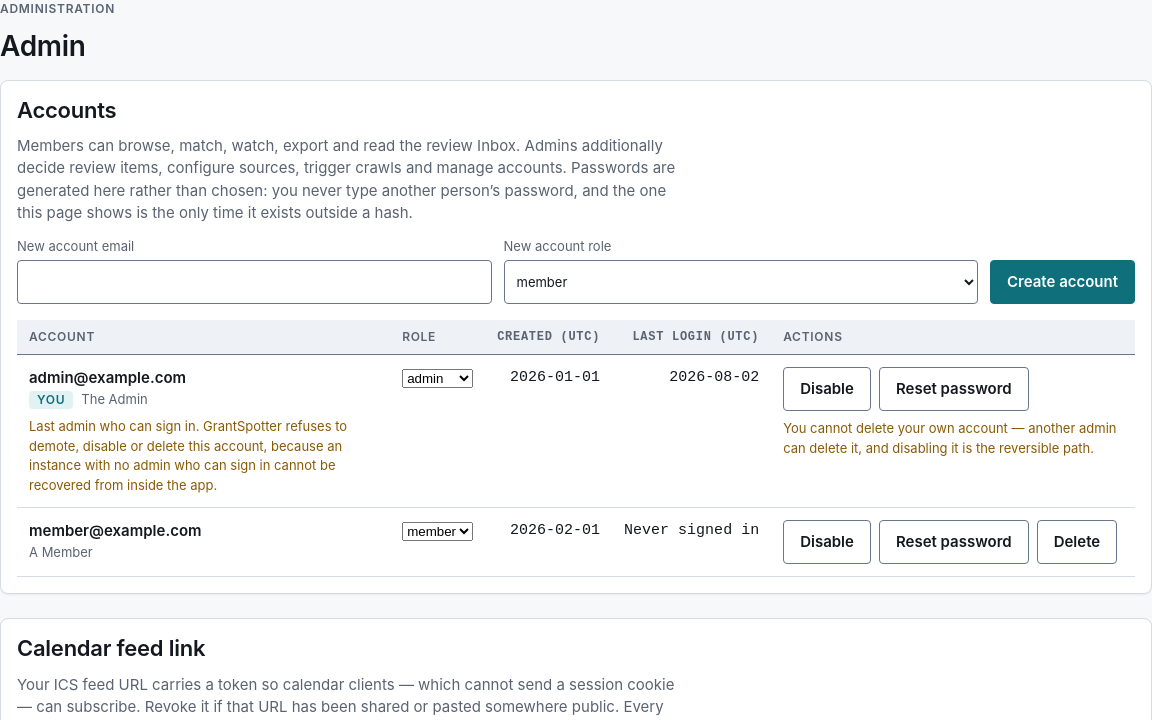
Test case: Admin console — users › confirms a delete before sending it, then names everything it destroyed
Click the button with aria-label "delete member@example.com" at (1077, 542), box left=1037, top=520, right=1117, bottom=564
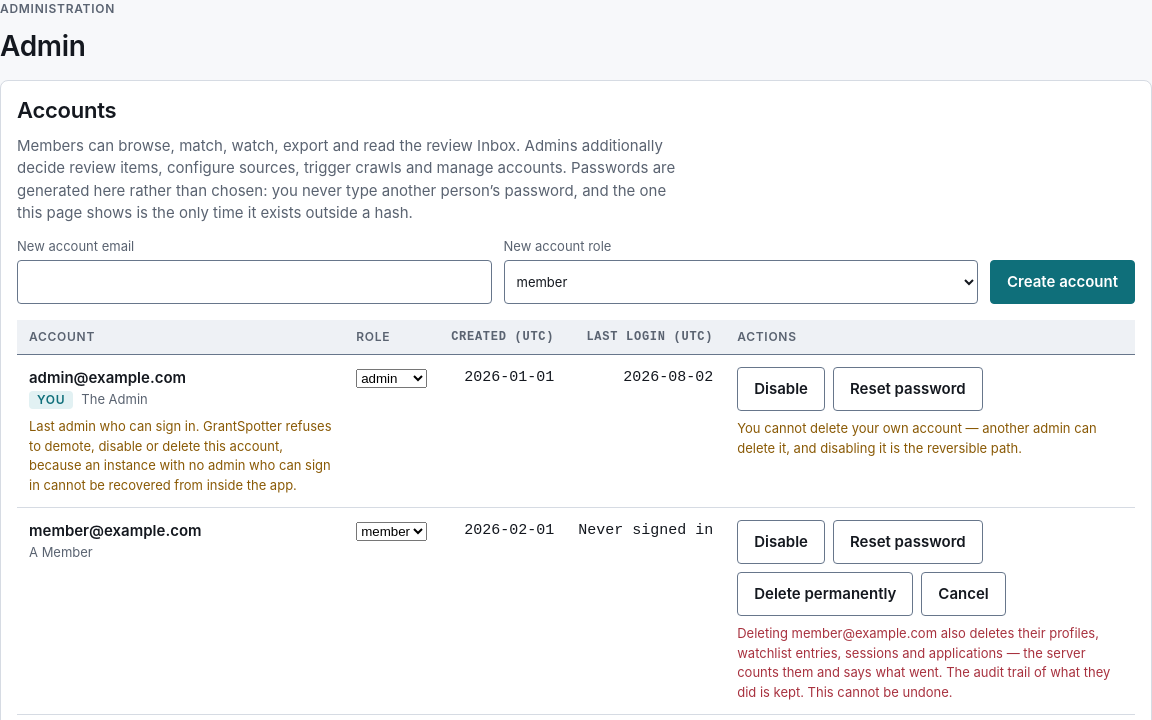
Expected: the text "cannot be undone" is shown, left=737, top=626, right=1110, bottom=700
Click the button with aria-label "permanently delete member@example.com" at (825, 594), box left=737, top=572, right=913, bottom=616
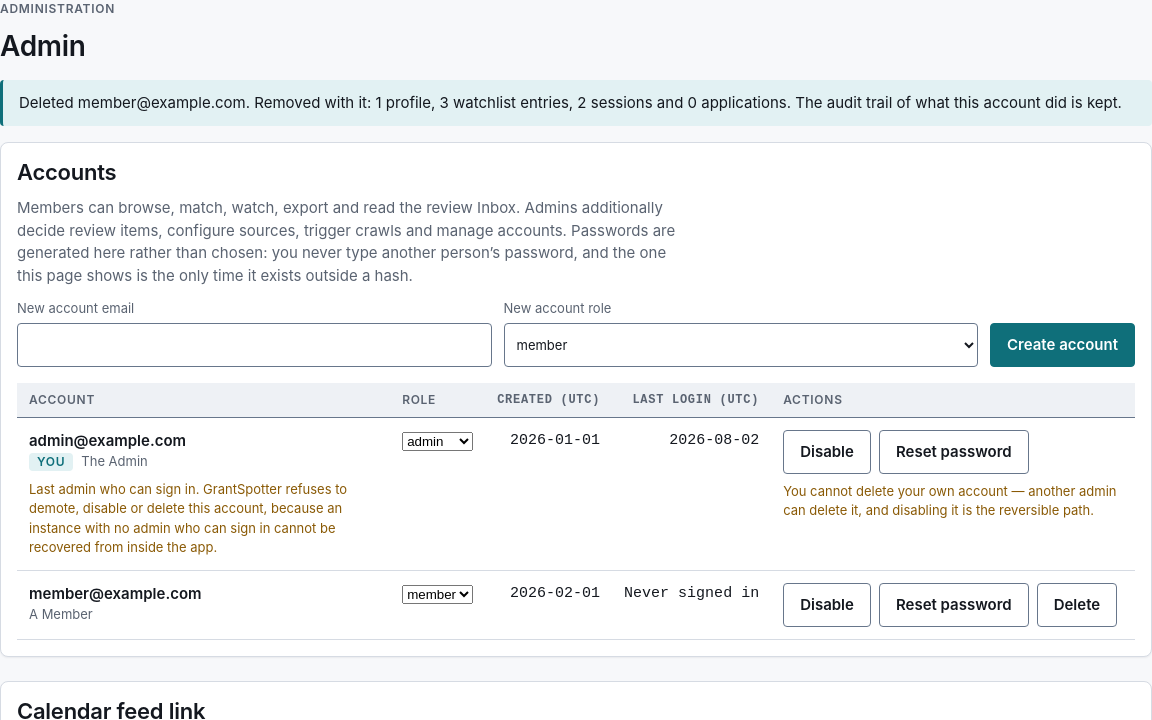
Expected: the message shows "1 profile", left=19, top=93, right=1122, bottom=112
Expected: the message shows "3 watchlist entries", left=19, top=93, right=1122, bottom=112
Expected: the message shows "2 sessions", left=19, top=93, right=1122, bottom=112
